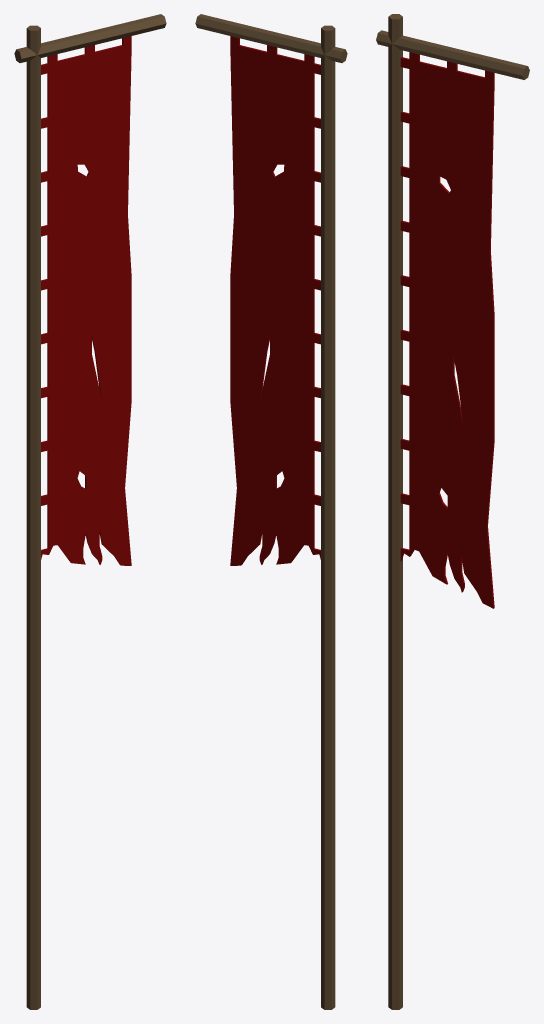
The model's file is Asian_Prop_Field_Castle_Flag_Tattered_02.FBX.
The picture shows the model from 3 angles, left to right: view 1: azimuth 30°, elevation 25°; view 2: azimuth 150°, elevation 25°; view 3: azimuth 330°, elevation 25°; orthographic projection.
Visible parts, largest first — view 1: Asian_Prop_Field_Castle_Flag_Tattered_02; view 2: Asian_Prop_Field_Castle_Flag_Tattered_02; view 3: Asian_Prop_Field_Castle_Flag_Tattered_02.
Part boxes in pixels (left/top/right/bottom): Asian_Prop_Field_Castle_Flag_Tattered_02: left=14, top=14, right=166, bottom=1009; Asian_Prop_Field_Castle_Flag_Tattered_02: left=195, top=14, right=347, bottom=1009; Asian_Prop_Field_Castle_Flag_Tattered_02: left=376, top=14, right=529, bottom=1009.
Bounding box in the file's own units: 912 × 5886 × 78.52.
